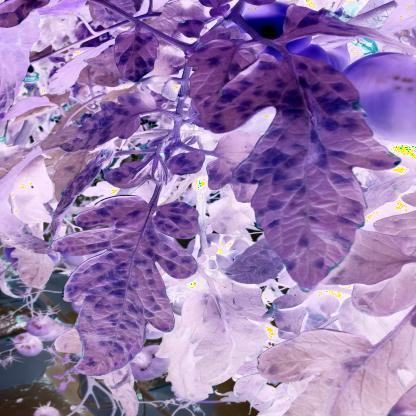Tomato mold leaf: (216, 56, 373, 290), (52, 194, 198, 378), (58, 91, 172, 155), (186, 34, 262, 98), (284, 2, 380, 44), (224, 228, 289, 286), (112, 30, 157, 87), (165, 152, 209, 180), (102, 160, 144, 188)
